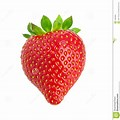Fresa: (20, 19, 89, 107)
